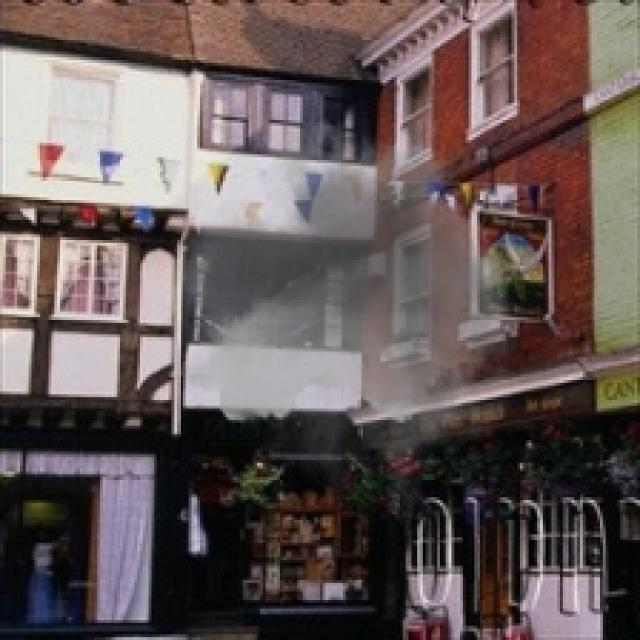smoke: (163, 97, 531, 506)
